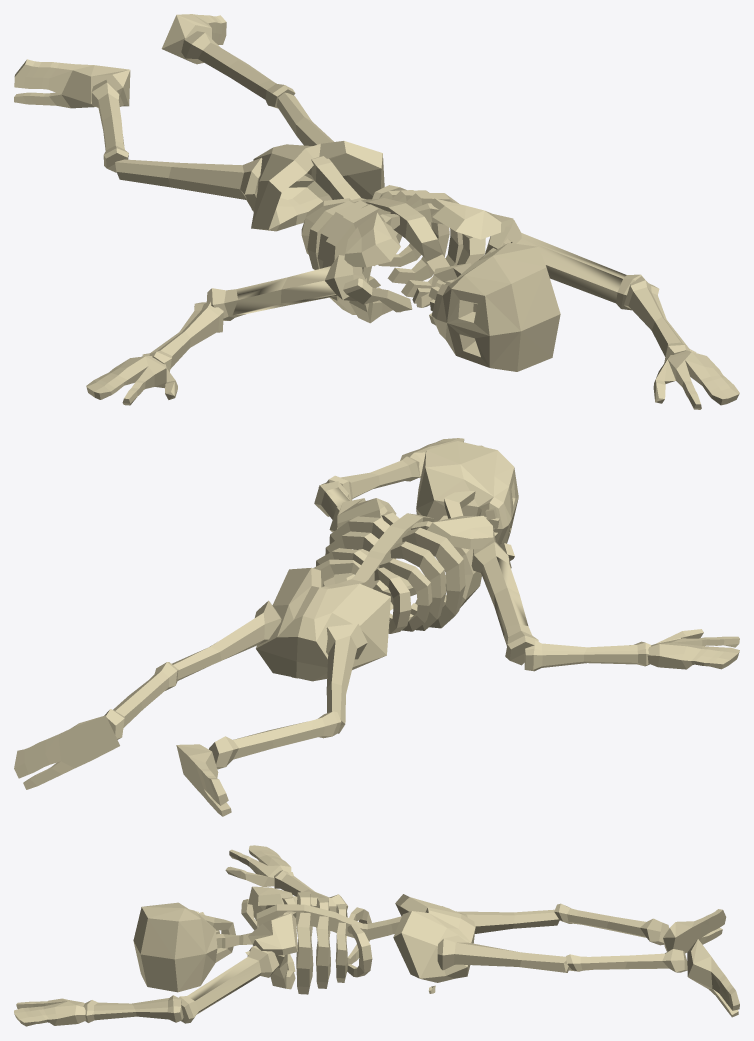
File: Esqueleto_1.FBX
The picture shows the model from 3 angles, top to bottom: view 1: azimuth 30°, elevation 25°; view 2: azimuth 150°, elevation 25°; view 3: azimuth 270°, elevation 25°; orthographic projection. The views are drawn at different scales.
Visible parts, largest first — view 1: Esqueleto_1; view 2: Esqueleto_1; view 3: Esqueleto_1.
Part boxes in pixels (<box>): Esqueleto_1: <box>14,14,739,409</box>; Esqueleto_1: <box>14,438,739,816</box>; Esqueleto_1: <box>14,845,739,1026</box>.
Size of the model in its own units: 130 by 27.26 by 219.
Materials: 1 (1 with a texture image).
